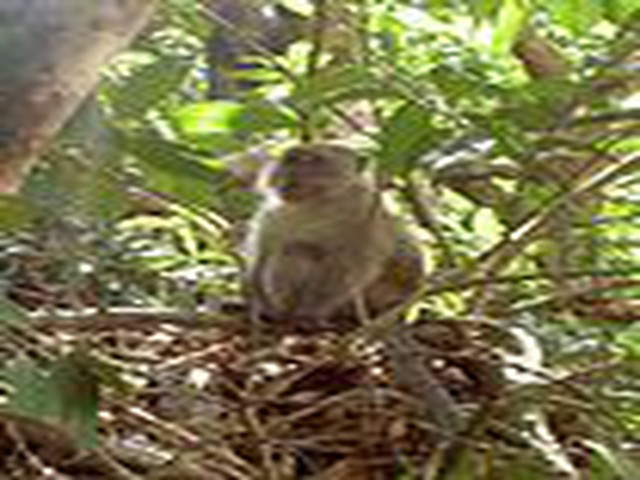Monkey: (251, 140, 426, 340)
